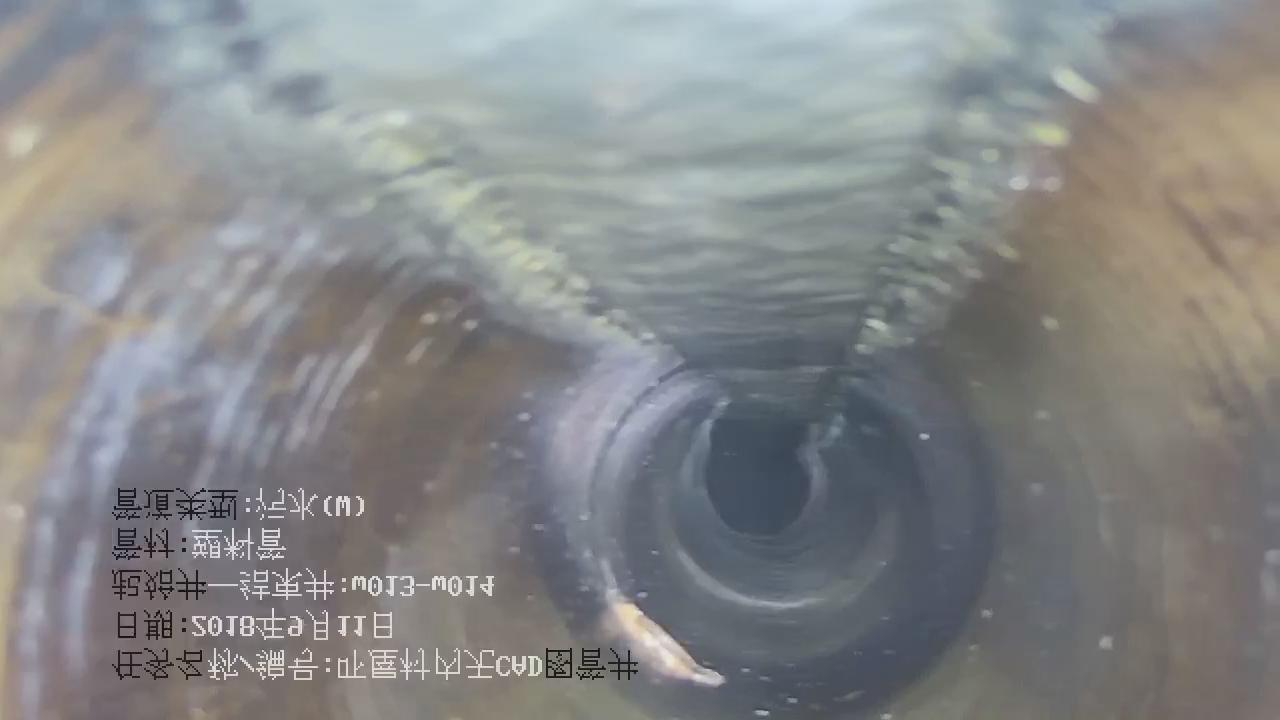ZGAJ: (605, 591, 723, 686)
